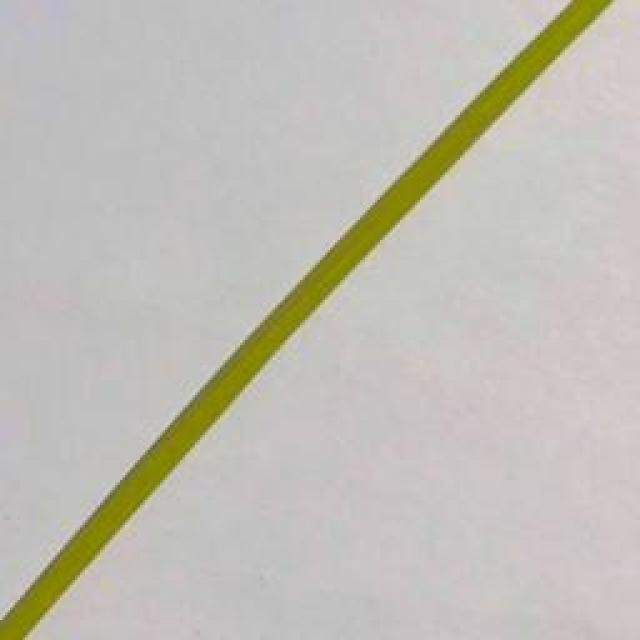Healthy-Plant: (0, 3, 598, 640)
